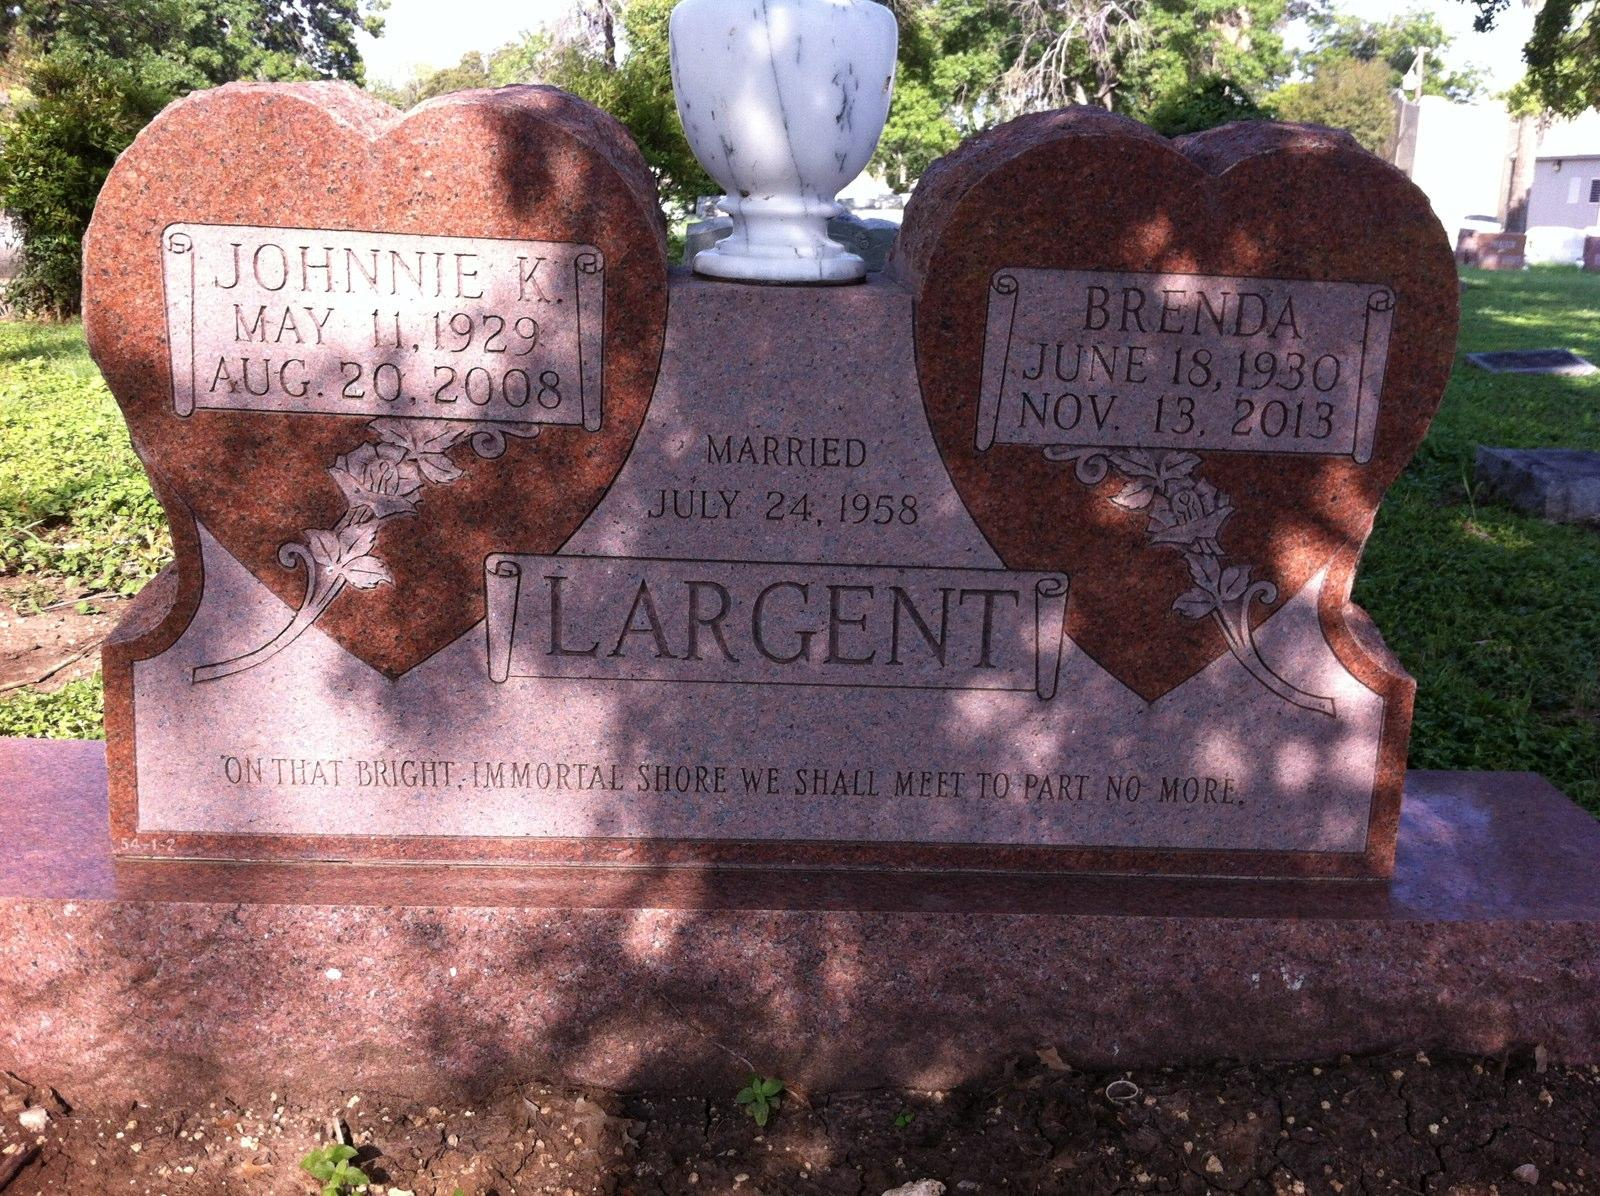upright: (0, 75, 1600, 1094)
